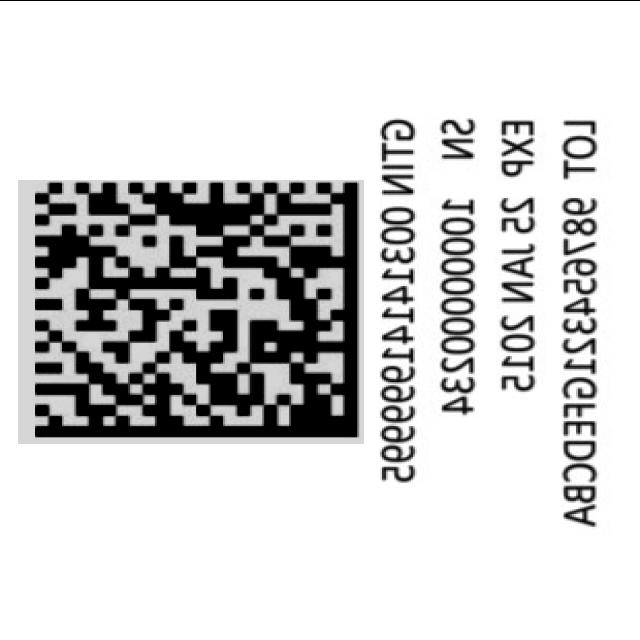DataMatrix: (18, 179, 364, 443)
